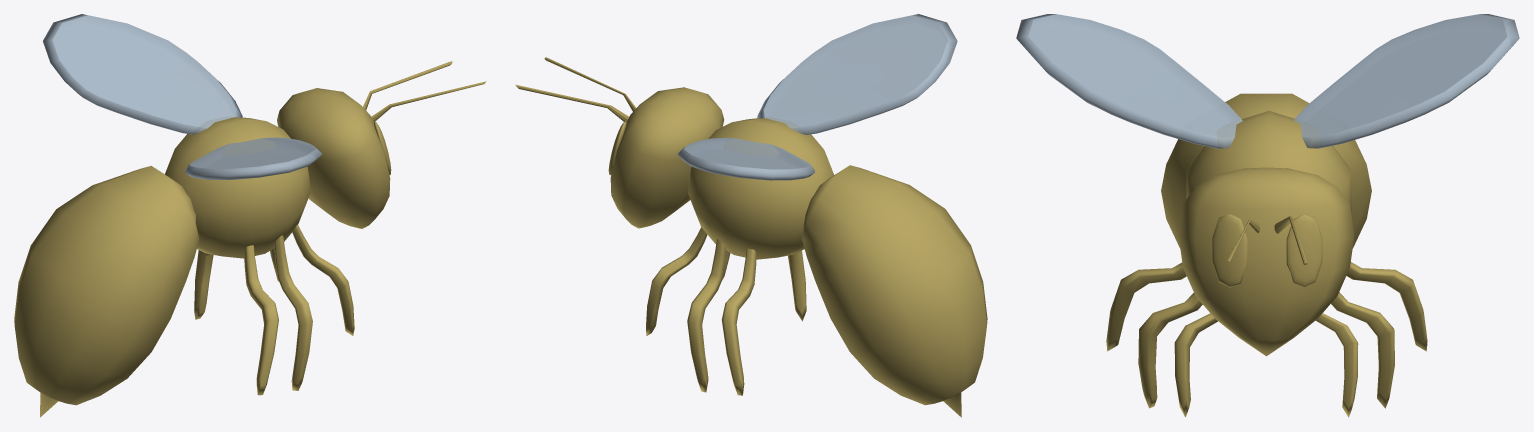
Rendered from Abella.fbx.
3 views of the same model, side by side, from view 1: azimuth 30°, elevation 25°; view 2: azimuth 150°, elevation 25°; view 3: azimuth 270°, elevation 25° (orthographic). The views are drawn at different scales.
Visible parts, largest first — view 1: Abeja, Ala_D, Ala_I; view 2: Abeja, Ala_I, Ala_D; view 3: Abeja, Ala_I, Ala_D.
Part boxes in pixels (x1,y1,x2,y2): Abeja: (14, 61, 486, 417); Ala_D: (43, 14, 242, 134); Ala_I: (185, 137, 321, 179); Abeja: (515, 57, 987, 417); Ala_I: (757, 14, 957, 134); Ala_D: (677, 137, 815, 180); Abeja: (1106, 93, 1427, 417); Ala_I: (1016, 14, 1242, 148); Ala_D: (1294, 14, 1519, 148).
Size of the model in its own units: 11.36 by 7.14 by 9.29.
